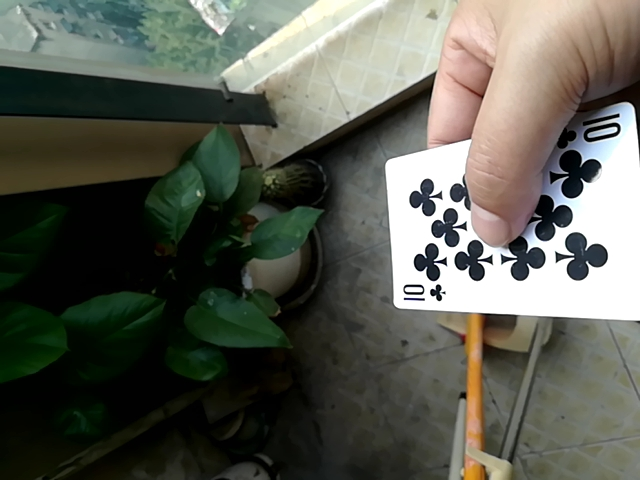mh 10: (382, 90, 640, 314)
